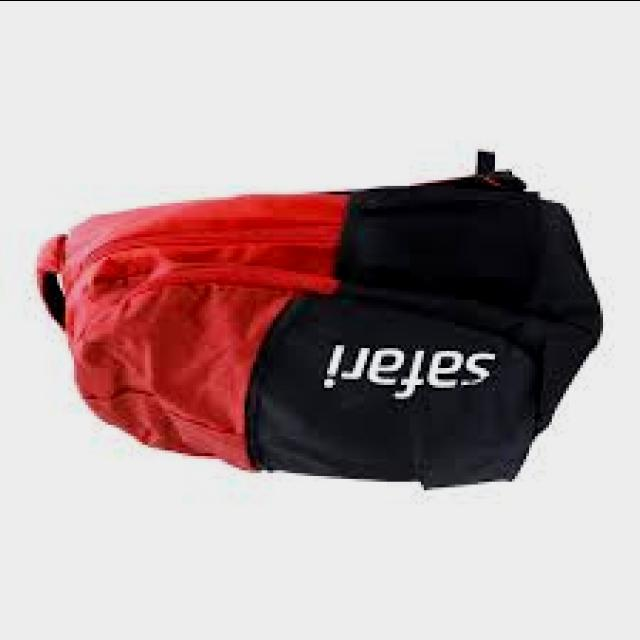backpack: (35, 152, 604, 494)
